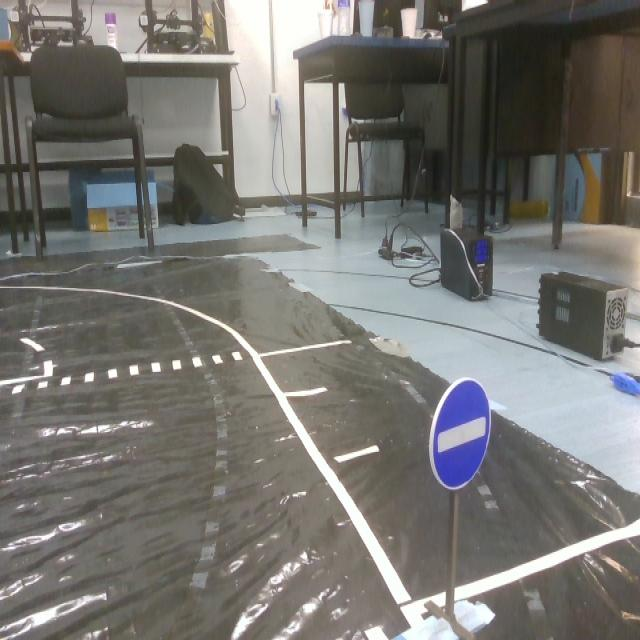dead_end: (422, 376, 509, 496)
